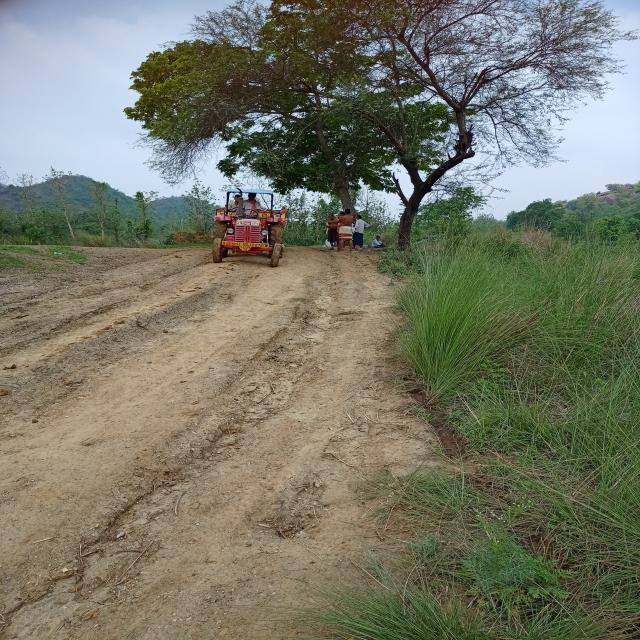tractor: (207, 184, 292, 270)
